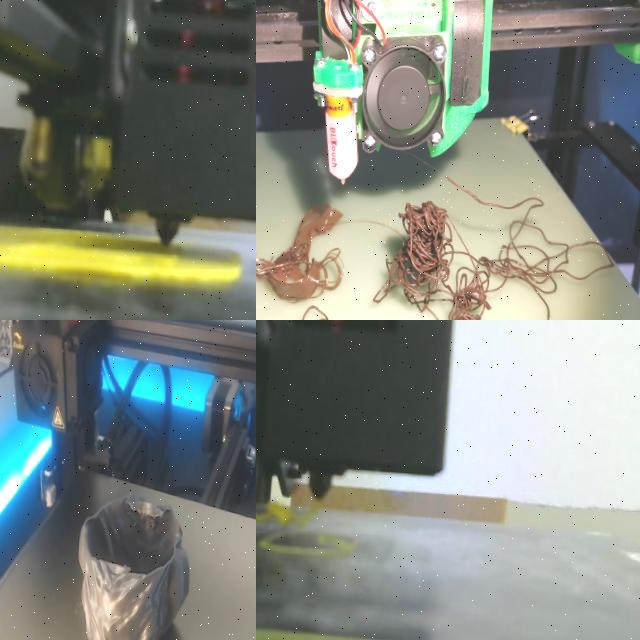spaghetti: (368, 173, 630, 320), (256, 195, 354, 320), (256, 504, 315, 527)
